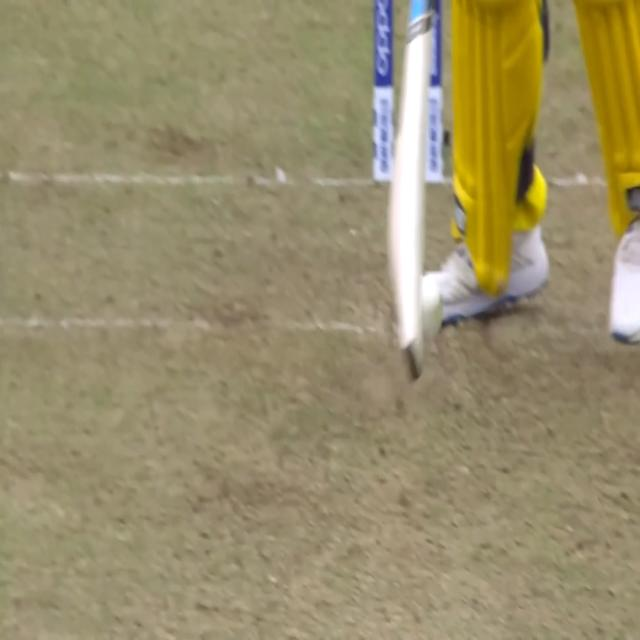ball: (423, 277, 444, 341)
